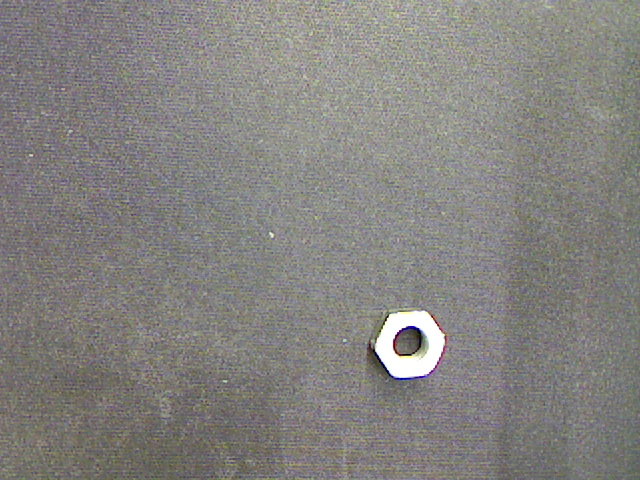Nut: (370, 308, 445, 379)
